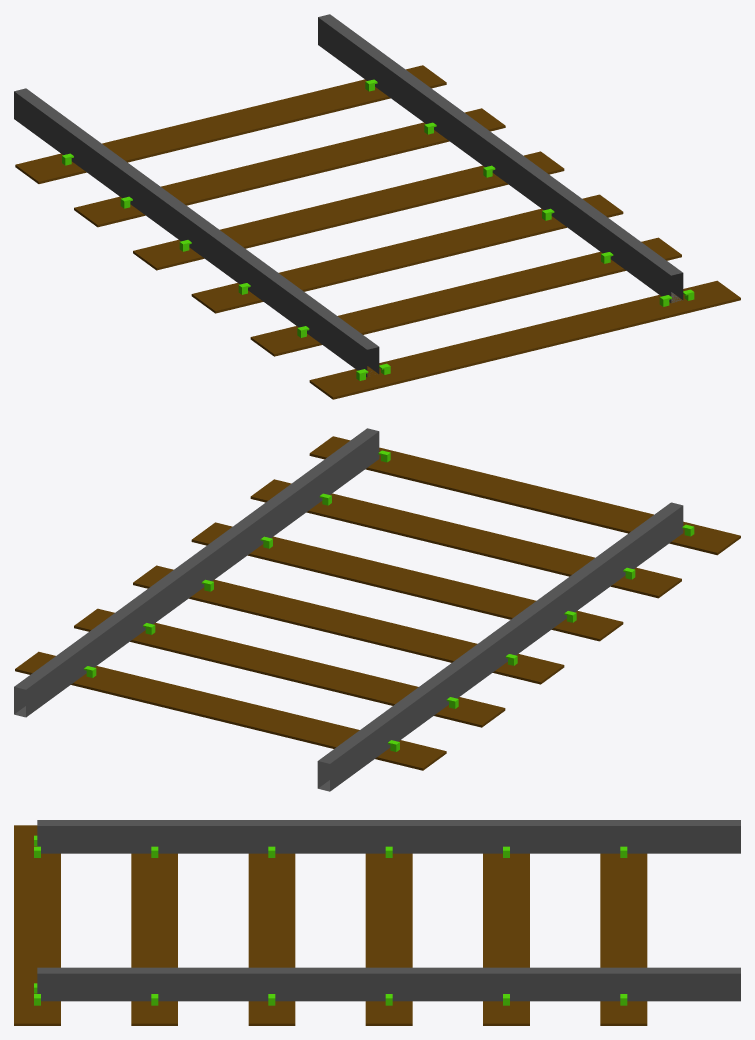
File: railLow.fbx
The picture shows the model from 3 angles, top to bottom: view 1: azimuth 30°, elevation 25°; view 2: azimuth 150°, elevation 25°; view 3: azimuth 270°, elevation 25°; orthographic projection.
Visible parts, largest first — view 1: railLowMesh; view 2: railLowMesh; view 3: railLowMesh.
Part boxes in pixels (box(x1,y1,x2,y2)): railLowMesh: box(14, 14, 740, 399); railLowMesh: box(14, 428, 740, 791); railLowMesh: box(14, 820, 740, 1025).
Size of the model in its own units: 2 by 0.1411 by 3.1.
